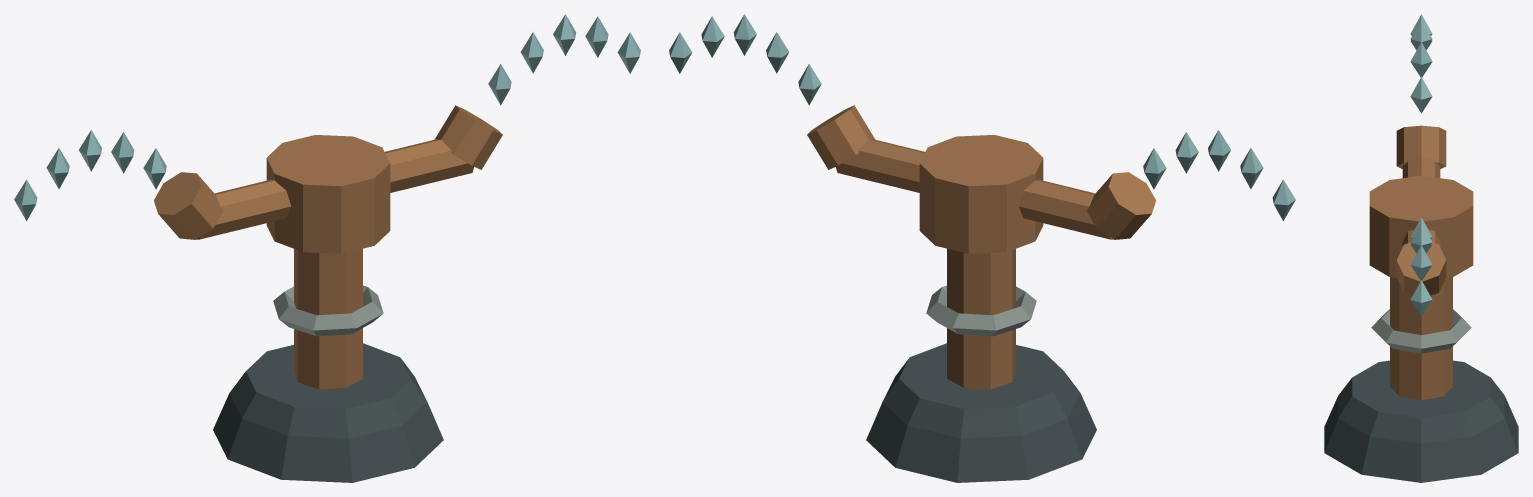
The model's file is sprinkler.glb.
3 renders of one model, left to right at view 1: azimuth 30°, elevation 25°; view 2: azimuth 150°, elevation 25°; view 3: azimuth 270°, elevation 25°, orthographic. The views are drawn at different scales.
Visible parts, largest first — view 1: geometry, spin, working; view 2: geometry, spin, working; view 3: geometry, spin, working.
Part boxes in pixels (box(x1,y1,x2,y2)): geometry: box(213, 248, 443, 482); spin: box(154, 105, 502, 253); working: box(14, 14, 640, 220); geometry: box(866, 248, 1096, 482); spin: box(807, 105, 1155, 253); working: box(669, 14, 1295, 220); geometry: box(1324, 277, 1518, 482); spin: box(1369, 125, 1473, 295); working: box(1410, 14, 1432, 316).
Bounding box in the file's own units: 0.8671 × 0.483 × 0.2663.
